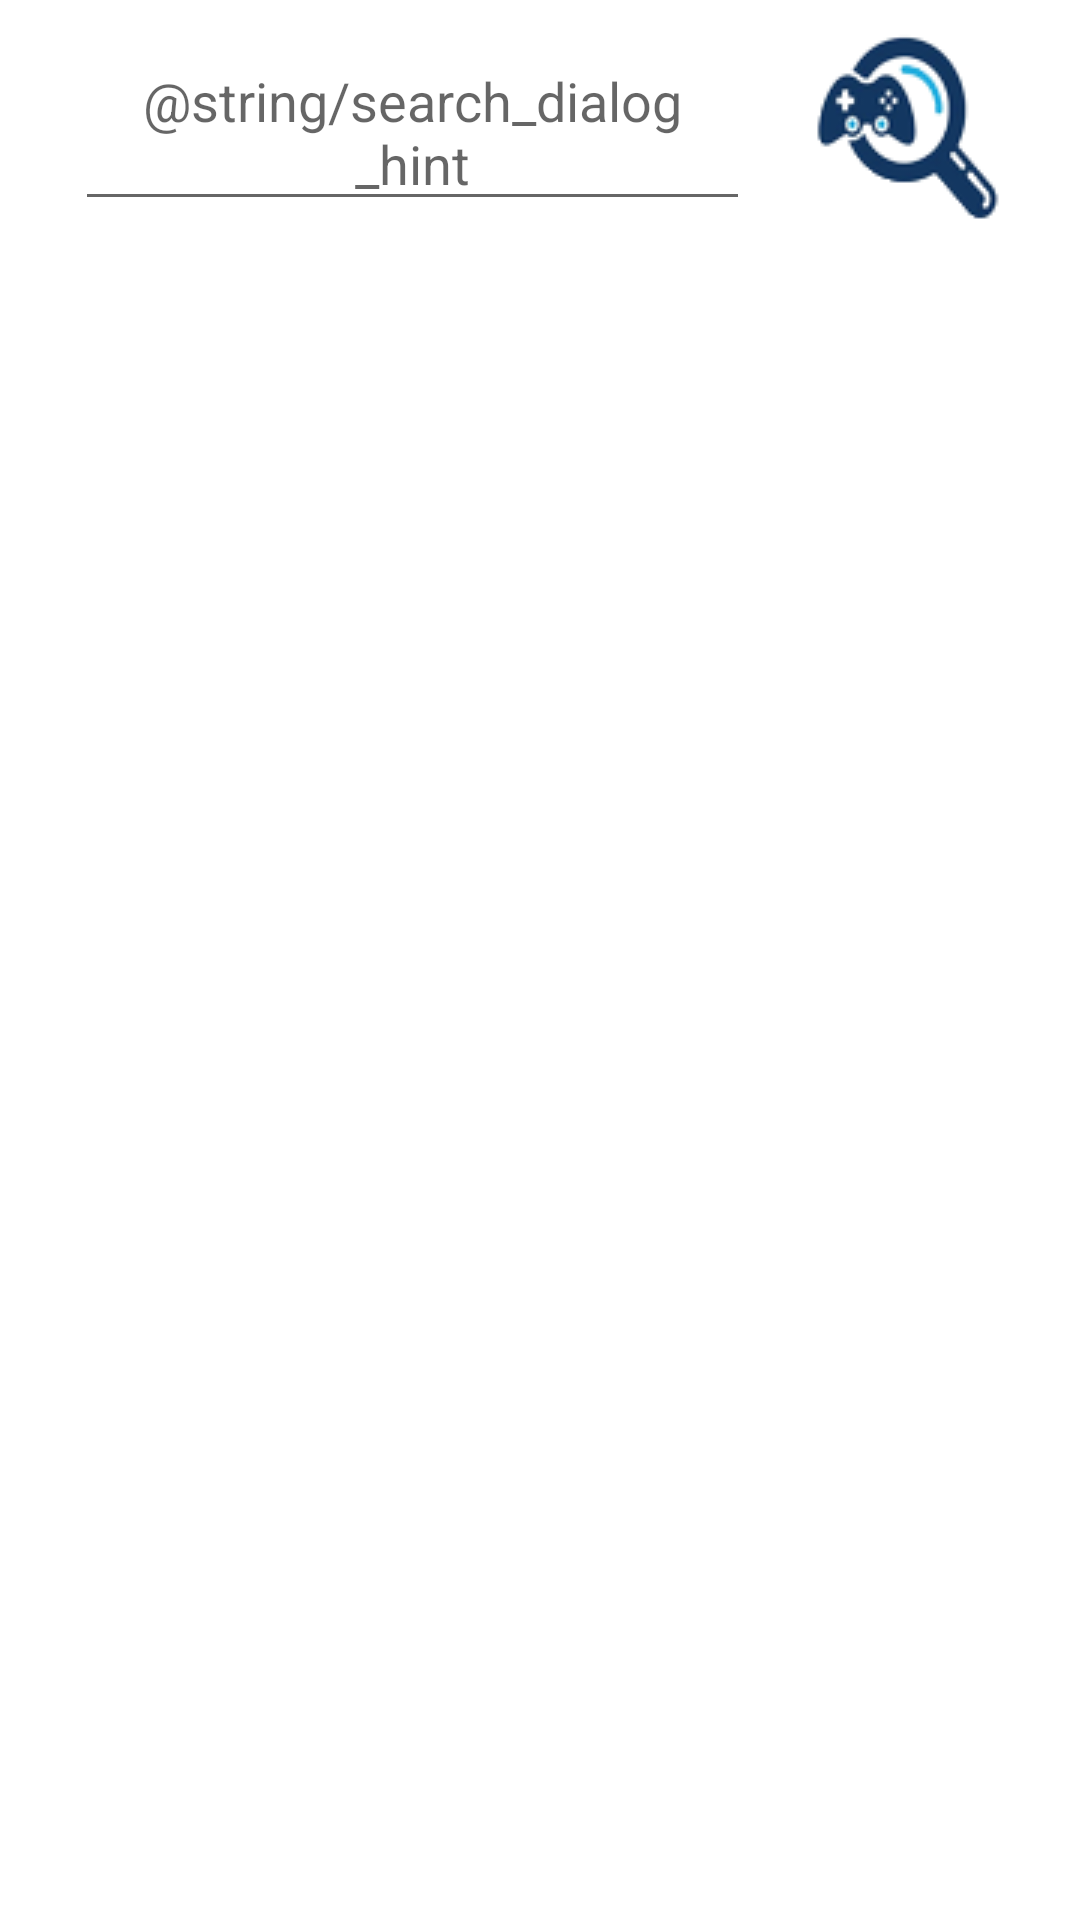

Icon click points for this 1080 × 1920 phone screenshot, format (x=x, y=y):
searchbtnicon: (x=908, y=128)
